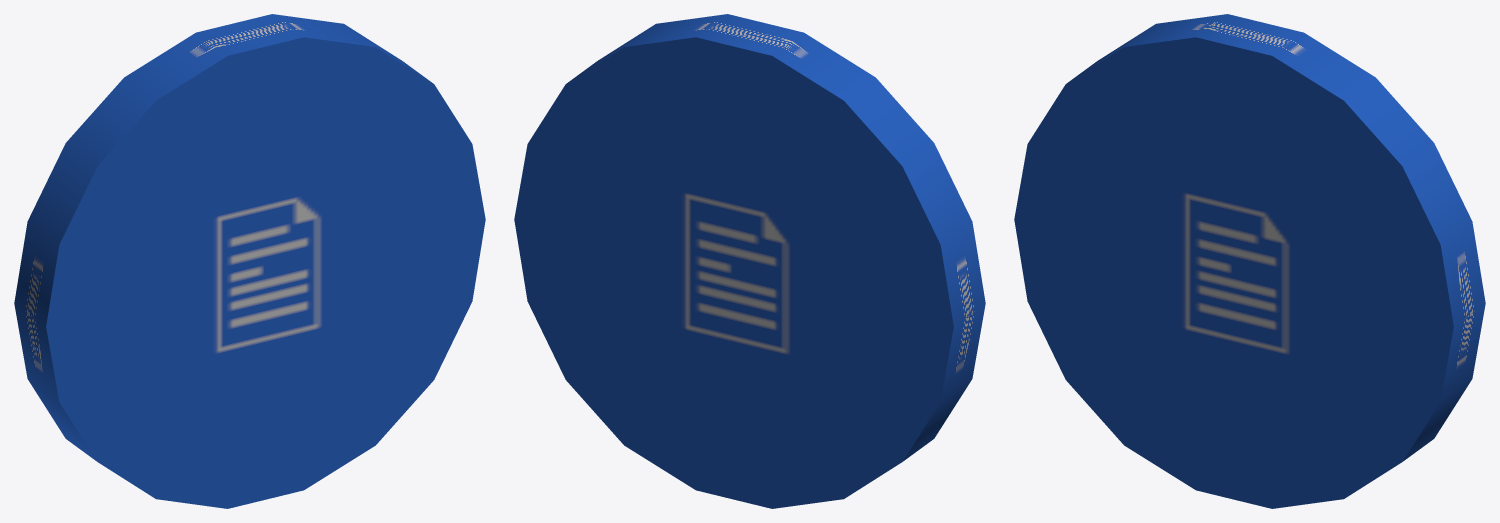
File: btn-info.glb
The picture shows the model from 3 angles, left to right: view 1: azimuth 30°, elevation 25°; view 2: azimuth 150°, elevation 25°; view 3: azimuth 330°, elevation 25°; orthographic projection.
Visible parts, largest first — view 1: Cylinder003; view 2: Cylinder003; view 3: Cylinder003.
Boxes of the visible parts, bbox=[...] form: Cylinder003: bbox=[14, 14, 485, 508]; Cylinder003: bbox=[514, 14, 985, 508]; Cylinder003: bbox=[1014, 14, 1485, 508].
Size of the model in its own units: 0.1763 by 0.1736 by 0.0221.
2 materials, 2 textured.
